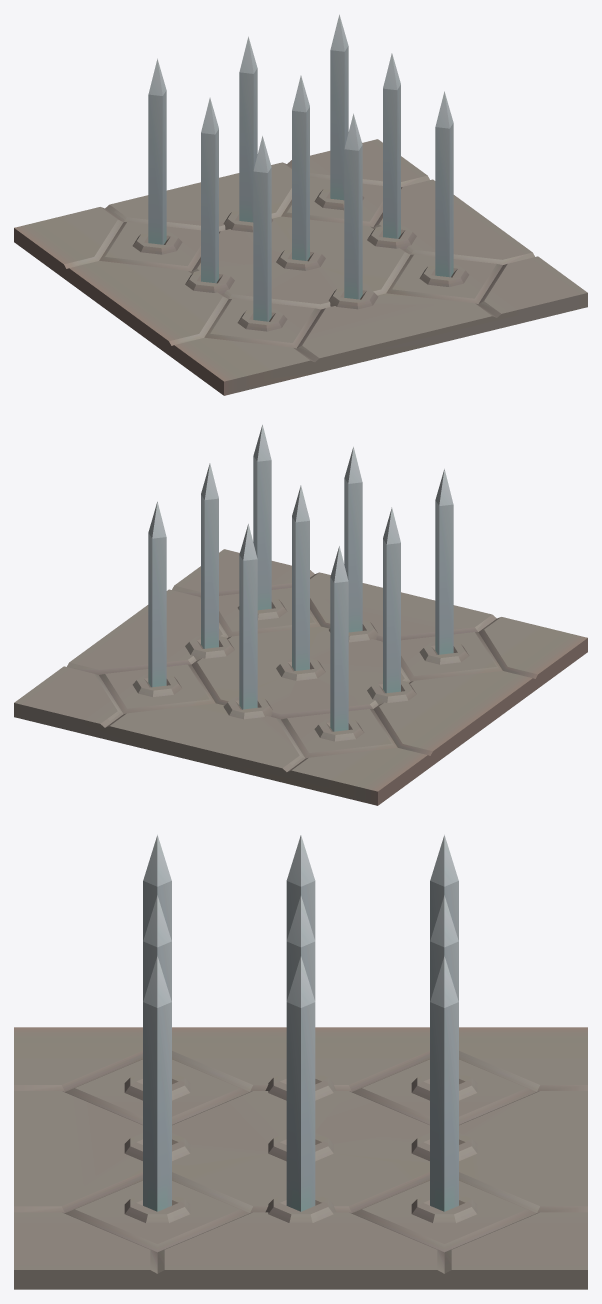
Rendered from floor_tile_big_spikes.glb.
The picture shows the model from 3 angles, top to bottom: view 1: azimuth 30°, elevation 25°; view 2: azimuth 150°, elevation 25°; view 3: azimuth 270°, elevation 25°; orthographic projection. The views are drawn at different scales.
Visible parts, largest first — view 1: floor_tile_big_spikes; view 2: floor_tile_big_spikes; view 3: floor_tile_big_spikes.
Boxes of the visible parts, x1,y1,x2,y2 form: floor_tile_big_spikes: [14, 14, 587, 395]; floor_tile_big_spikes: [14, 424, 587, 805]; floor_tile_big_spikes: [14, 834, 587, 1289].
Bounding box in the file's own units: 4 × 2.1 × 4.
1 material, 1 textured.
